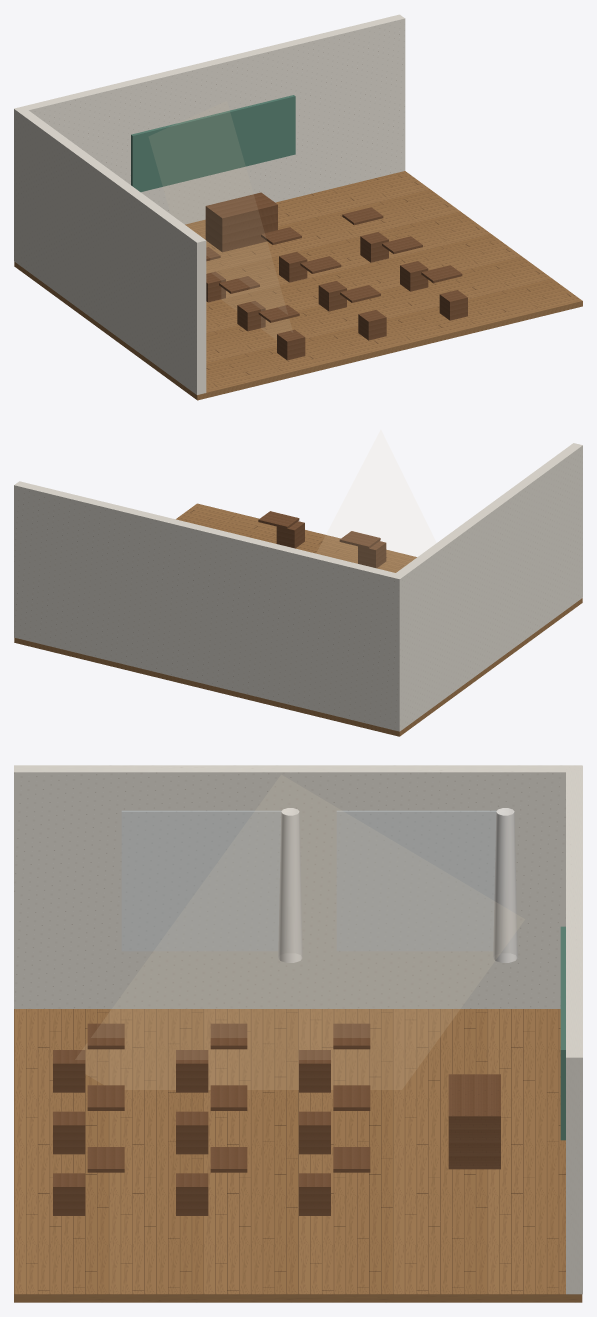
Rendered from ch5_env_empty_classroom.glb.
3 views of the same model, one above another, from view 1: azimuth 30°, elevation 25°; view 2: azimuth 150°, elevation 25°; view 3: azimuth 270°, elevation 25° (orthographic). The views are drawn at different scales.
Visible parts, largest first — view 1: ch5_env_empty_classroom; view 2: ch5_env_empty_classroom; view 3: ch5_env_empty_classroom.
Part boxes in pixels (bbox=[...]): ch5_env_empty_classroom: bbox=[14, 14, 582, 400]; ch5_env_empty_classroom: bbox=[14, 443, 582, 736]; ch5_env_empty_classroom: bbox=[14, 765, 582, 1302].
Bounding box in the file's own units: 9.01 × 6.26 × 7.41.
Materials: 7 (3 with a texture image).
